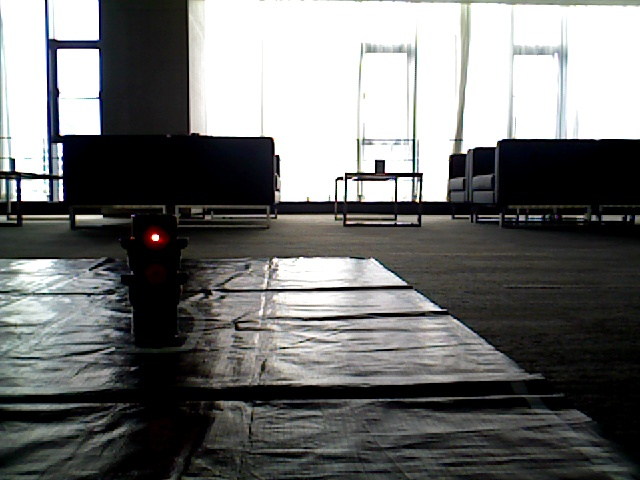red: (127, 213, 175, 327)
